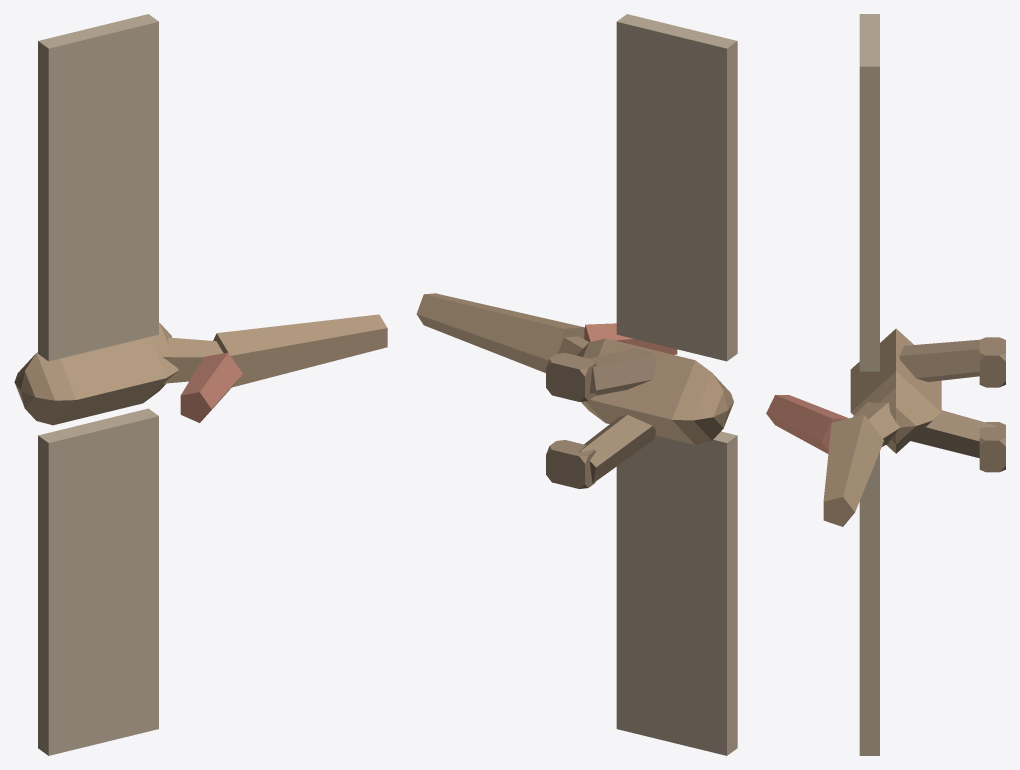
3 views of the same model, side by side, from view 1: azimuth 30°, elevation 25°; view 2: azimuth 150°, elevation 25°; view 3: azimuth 270°, elevation 25° (orthographic). The views are drawn at different scales.
Visible parts, largest first — view 1: part5, part4, part0, part2, part3, part1; view 2: part4, part5, part0, part2, part8, part6, part7, part9, part3; view 3: part4, part5, part0, part2, part6, part3, part8, part7, part9, part1.
Part boxes in pixels (left/top/right/bottom): part5: left=38, top=408, right=158, bottom=755; part4: left=38, top=14, right=158, bottom=361; part0: left=14, top=322, right=178, bottom=425; part2: left=213, top=314, right=387, bottom=387; part3: left=180, top=352, right=242, bottom=422; part1: left=163, top=337, right=223, bottom=383; part4: left=616, top=14, right=737, bottom=361; part5: left=616, top=431, right=737, bottom=755; part0: left=577, top=338, right=733, bottom=444; part2: left=416, top=293, right=584, bottom=372; part8: left=579, top=415, right=655, bottom=483; part6: left=589, top=347, right=655, bottom=395; part7: left=546, top=353, right=596, bottom=401; part9: left=546, top=440, right=595, bottom=488; part3: left=584, top=323, right=677, bottom=354; part4: left=859, top=14, right=879, bottom=371; part5: left=859, top=452, right=879, bottom=755; part0: left=850, top=328, right=941, bottom=453; part2: left=823, top=414, right=883, bottom=526; part6: left=899, top=339, right=979, bottom=381; part3: left=766, top=395, right=848, bottom=453; part8: left=911, top=410, right=996, bottom=458; part7: left=979, top=337, right=1005, bottom=387; part9: left=979, top=422, right=1005, bottom=472; part1: left=853, top=402, right=900, bottom=446.
Bounding box in the file's own units: 2.56 × 5.2 × 1.64.
